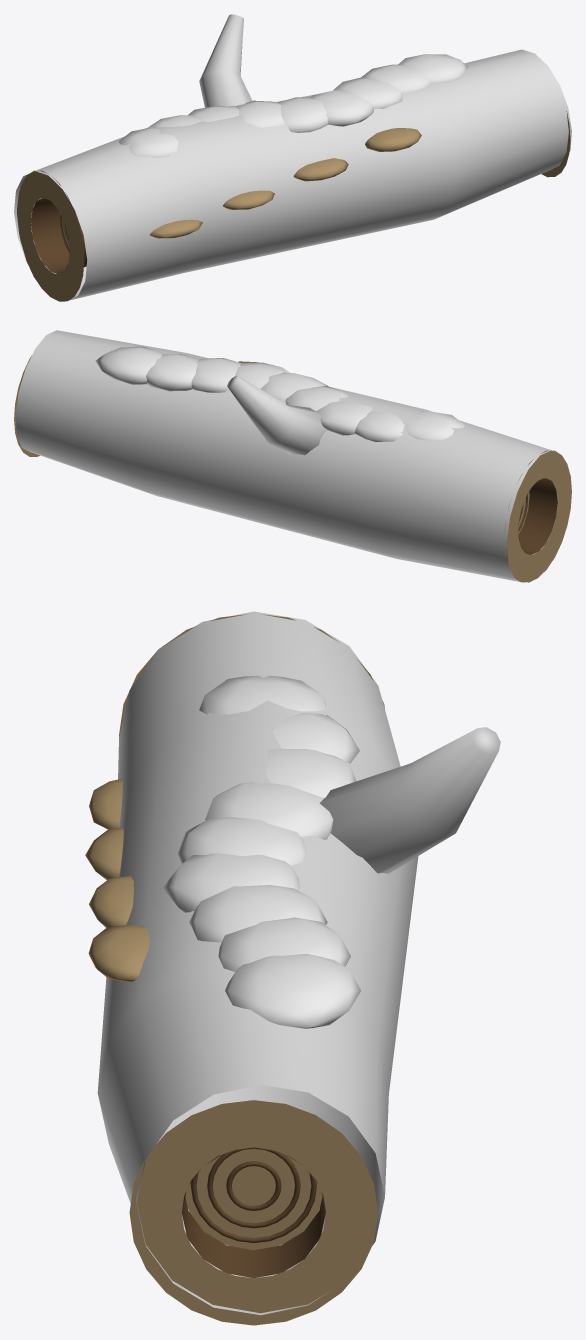
The model's file is SM_DF_Log_0.fbx.
The picture shows the model from 3 angles, top to bottom: view 1: azimuth 30°, elevation 25°; view 2: azimuth 150°, elevation 25°; view 3: azimuth 270°, elevation 25°; orthographic projection. The views are drawn at different scales.
Visible parts, largest first — view 1: SM_DF_Log_0; view 2: SM_DF_Log_0; view 3: SM_DF_Log_0.
Boxes of the visible parts, x1=… form: SM_DF_Log_0: x1=14, y1=14, x2=571, y2=301; SM_DF_Log_0: x1=14, y1=330, x2=571, y2=582; SM_DF_Log_0: x1=85, y1=611, x2=500, y2=1325.
Size of the model in its own units: 325 by 118 by 117.
